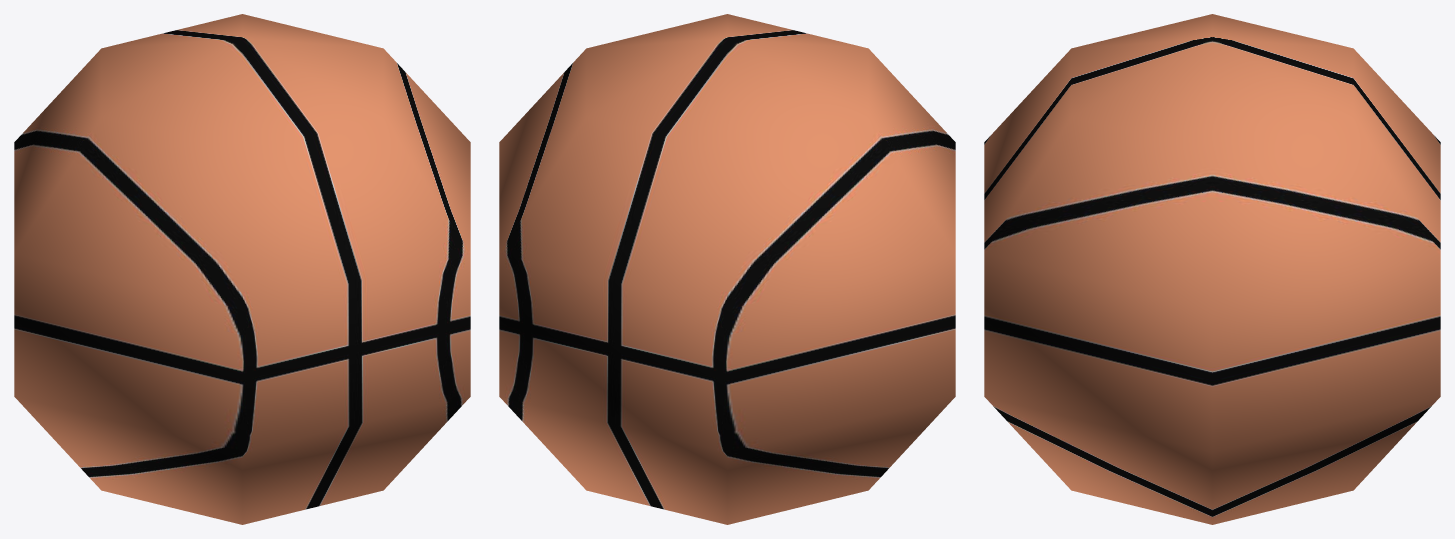
Rendered from AF_M_Prop_02.FBX.
3 views of the same model, side by side, from view 1: azimuth 30°, elevation 25°; view 2: azimuth 150°, elevation 25°; view 3: azimuth 270°, elevation 25° (orthographic).
Visible parts, largest first — view 1: AF_M_Prop_02; view 2: AF_M_Prop_02; view 3: AF_M_Prop_02.
Part boxes in pixels (x1,y1,x2,y2): AF_M_Prop_02: (14,14,470,524); AF_M_Prop_02: (499,14,955,524); AF_M_Prop_02: (984,14,1440,524).
Bounding box in the file's own units: 234 × 226 × 203.
Materials: 1 (1 with a texture image).
